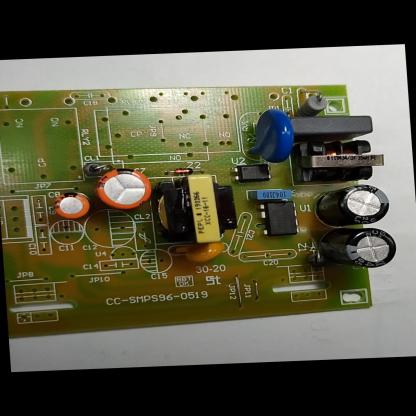Cap1: (91, 166, 154, 211)
Cap2: (53, 192, 91, 220)
Cap3: (312, 184, 390, 227)
Cap4: (317, 226, 397, 270)
MOSFET: (257, 199, 300, 238)
Mov: (242, 107, 293, 163)
Resistor: (294, 92, 330, 116)
Transformer: (154, 174, 239, 246), (292, 138, 388, 184)
